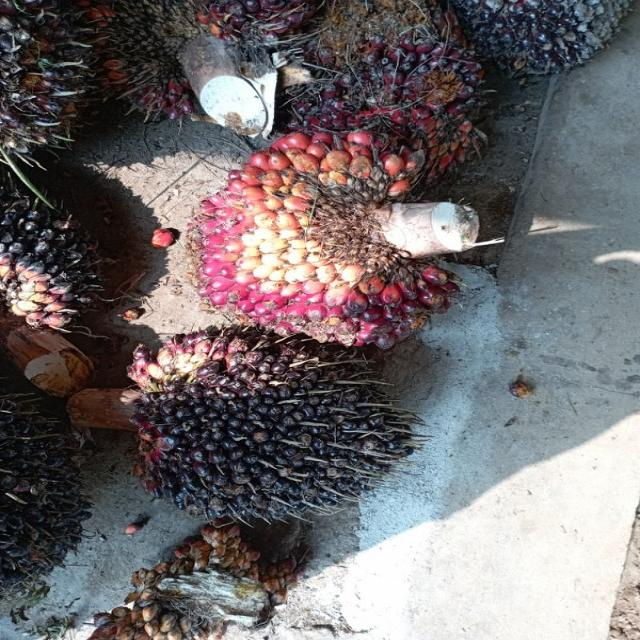fraksi 00: (65, 301, 468, 569), (198, 0, 535, 201)
fraksi 3: (116, 104, 550, 370)
